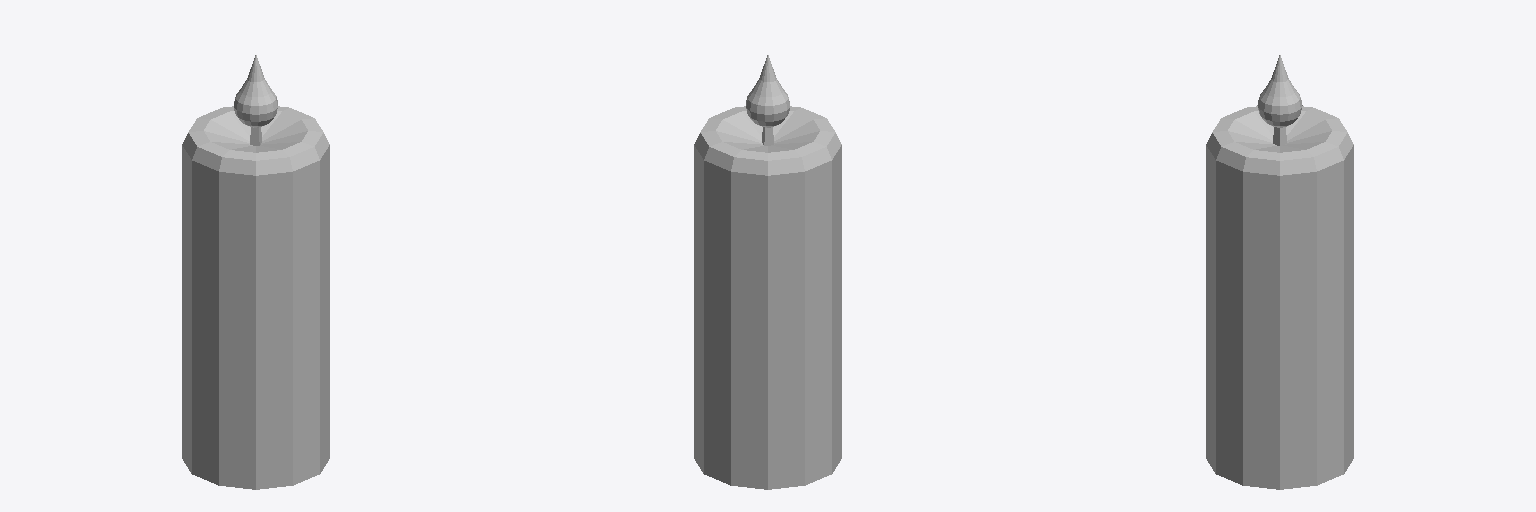
The model's file is candleLarge.obj.
3 renders of one model, left to right at view 1: azimuth 30°, elevation 25°; view 2: azimuth 150°, elevation 25°; view 3: azimuth 270°, elevation 25°, orthographic.
Parts seen in each view (by area): view 1: candleLarge_Cylinder.006; view 2: candleLarge_Cylinder.006; view 3: candleLarge_Cylinder.006.
Boxes of the visible parts, x1,y1,x2,y2 form: candleLarge_Cylinder.006: [182, 55, 329, 489]; candleLarge_Cylinder.006: [694, 55, 841, 489]; candleLarge_Cylinder.006: [1206, 55, 1353, 489].
Size of the model in its own units: 0.2779 by 0.8393 by 0.2779.